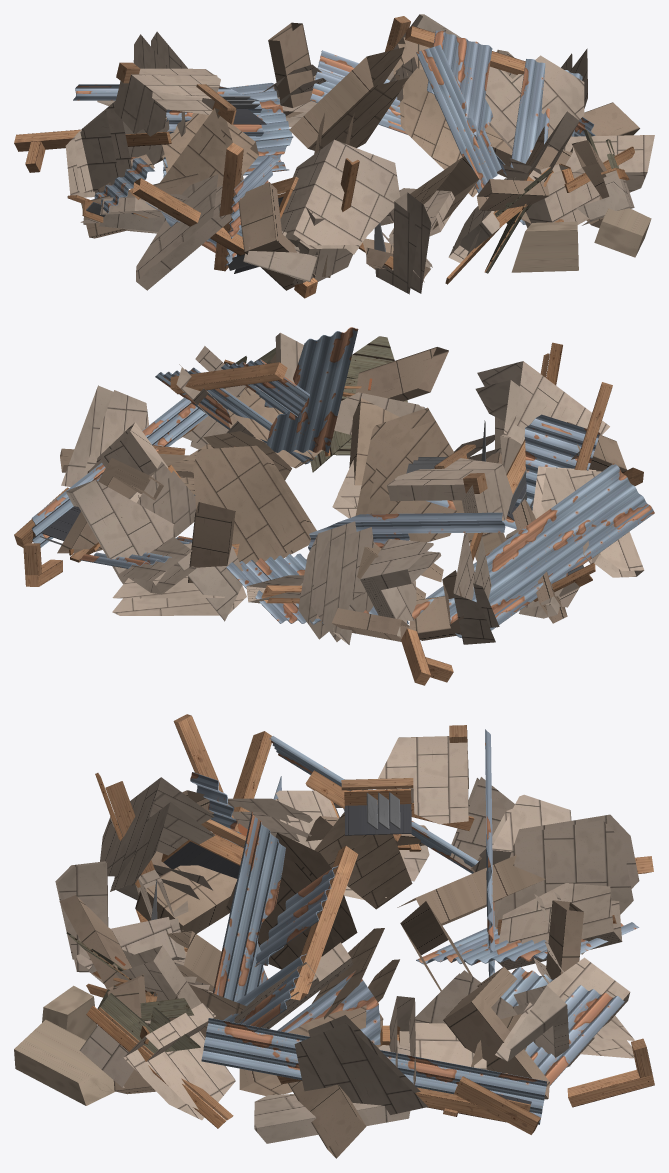
Rendered from houdini_block_shed_v6_pieces.glb.
3 renders of one model, top to bottom at view 1: azimuth 30°, elevation 25°; view 2: azimuth 150°, elevation 25°; view 3: azimuth 270°, elevation 25°, orthographic. The views are drawn at different scales.
Visible parts, largest first — view 1: LOD0; view 2: LOD0; view 3: LOD0.
Part boxes in pixels (x1,y1,x2,y2): LOD0: (14, 14, 654, 298); LOD0: (14, 327, 654, 685); LOD0: (14, 714, 654, 1158).
Size of the model in its own units: 8.05 by 2.41 by 6.86.
5 materials, 5 textured.
